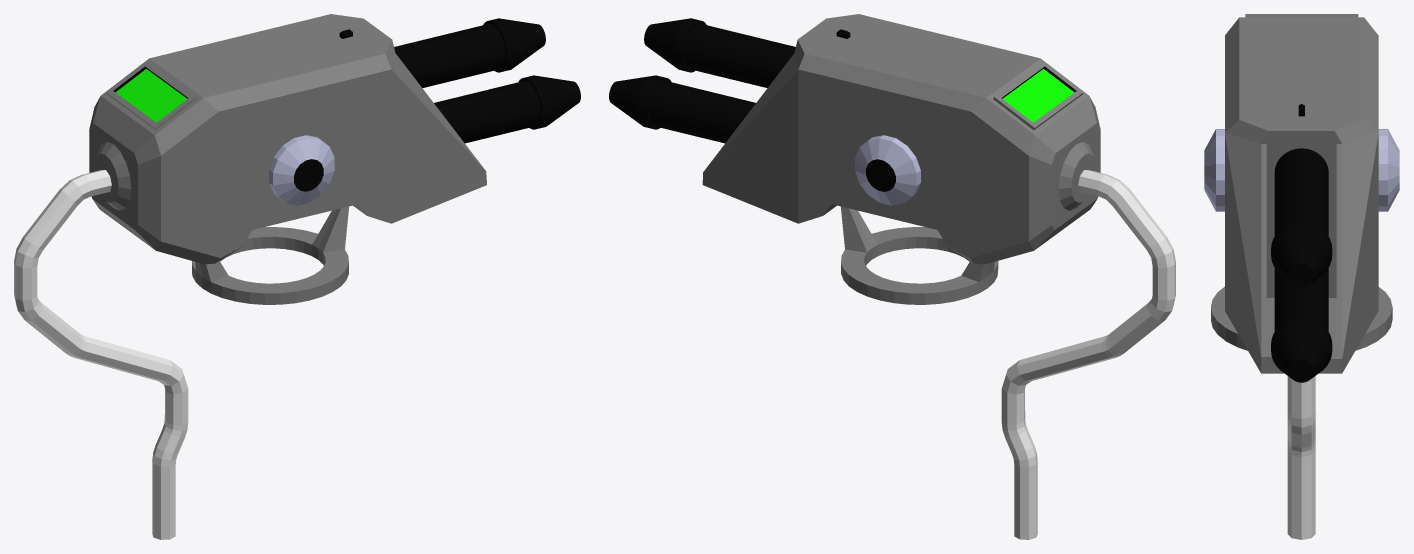
The model's file is turret_top2.1.fbx.
3 views of the same model, side by side, from view 1: azimuth 30°, elevation 25°; view 2: azimuth 150°, elevation 25°; view 3: azimuth 270°, elevation 25° (orthographic). The views are drawn at different scales.
Visible parts, largest first — view 1: TUREET, Plane, barrel 1, barrel 2; view 2: TUREET, Plane, barrel 1, barrel 2; view 3: TUREET, barrel 1, barrel 2, Plane.
Boxes of the visible parts, <box> form: TUREET: <box>89,14,486,304</box>; Plane: <box>14,170,188,539</box>; barrel 1: <box>394,18,545,87</box>; barrel 2: <box>434,75,580,143</box>; TUREET: <box>702,14,1100,304</box>; Plane: <box>1001,170,1175,539</box>; barrel 1: <box>644,18,795,87</box>; barrel 2: <box>609,75,755,143</box>; TUREET: <box>1204,14,1399,373</box>; barrel 1: <box>1271,148,1332,287</box>; barrel 2: <box>1271,268,1332,382</box>; Plane: <box>1287,376,1315,539</box>.
Size of the model in its own units: 212 by 167 by 55.46.
